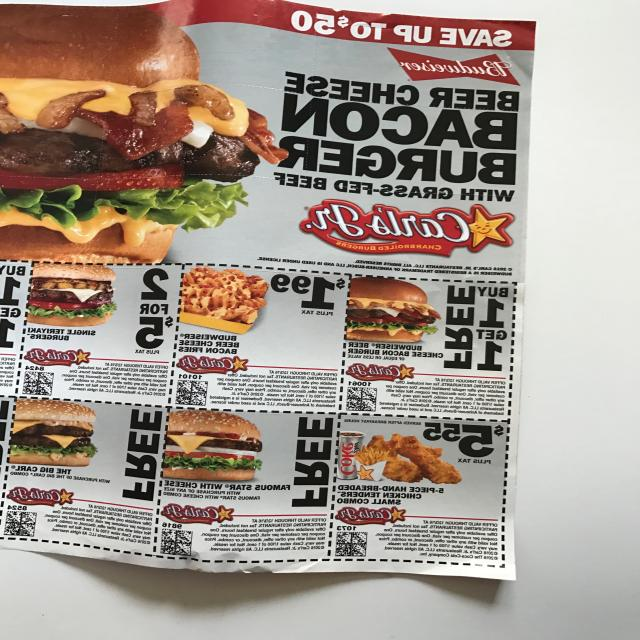paper: (0, 0, 559, 604)
